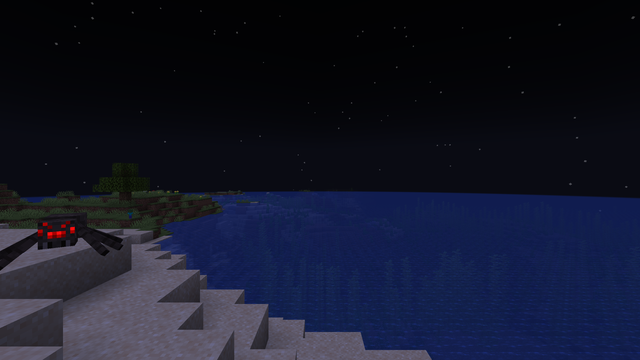araignees: (6, 209, 120, 265)
zombies: (128, 210, 132, 218)
